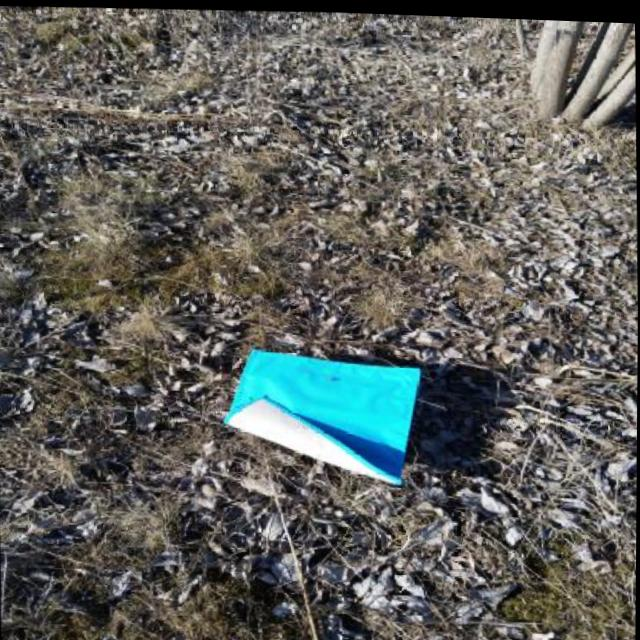other: (222, 345, 424, 488)
